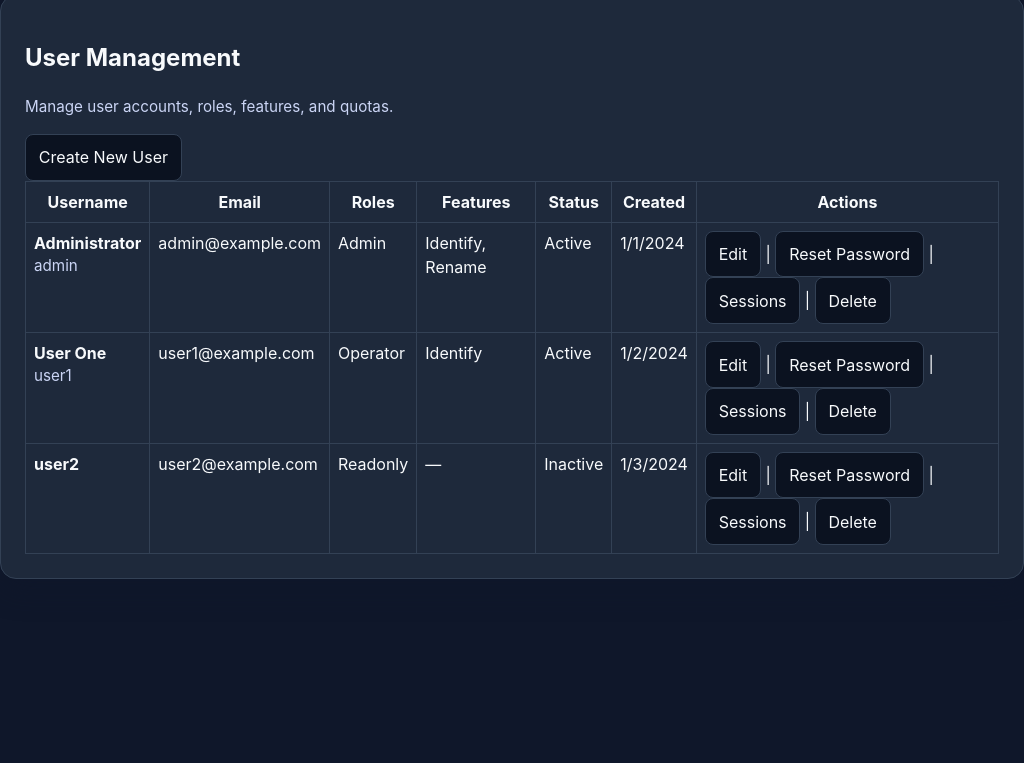
Test: UserManager › opens edit modal when edit button is clicked
Find and click edit button for user1
Click the button "Edit" in the row of "User One" at [733, 364], box [705,341,761,388]
(page scrolled)
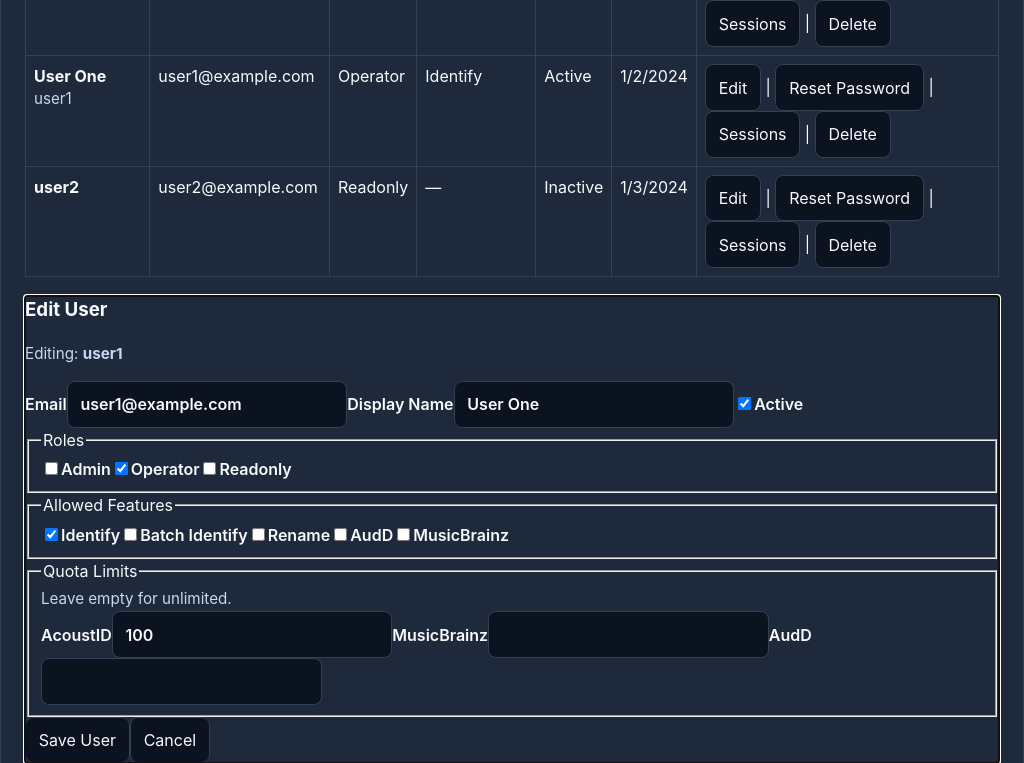
Expected: the heading "Edit User" is shown, [25,298,107,321]
Expected: the field showing "user1@example.com" is shown, [67,381,347,428]
